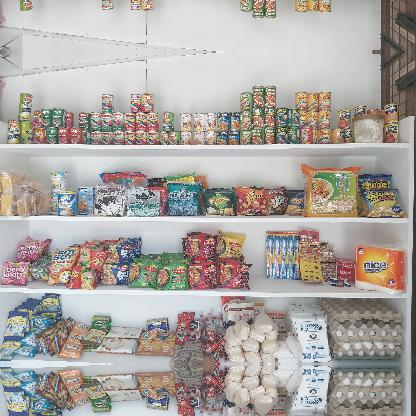Lady-s-Choice: (352, 114, 384, 142)
